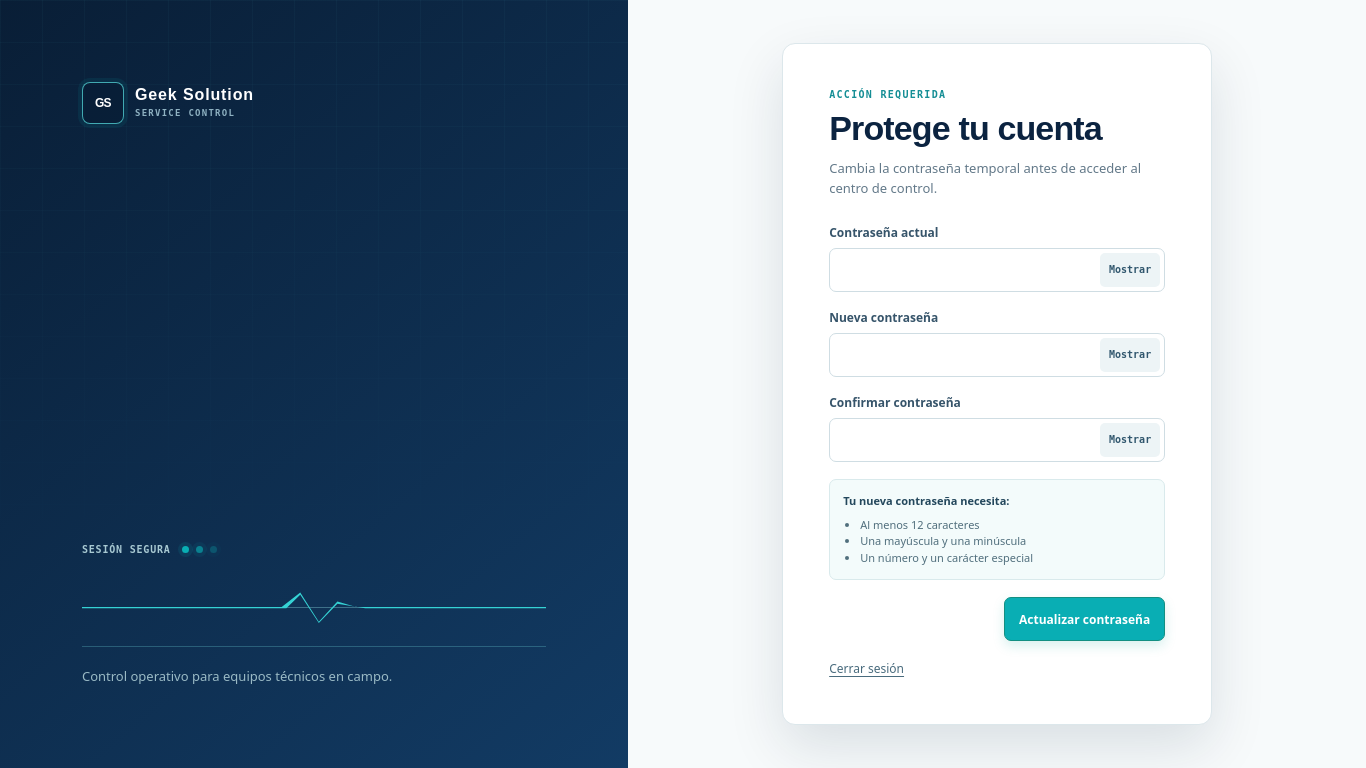
Test: páginas de autenticación › deshabilita el envío pendiente y conserva el cierre de sesión en cambio obligatorio
Type "Actual123!xxx" into the password field labelled "Contraseña actual" at (997, 270), box x1=829 y1=248 x2=1165 y2=292
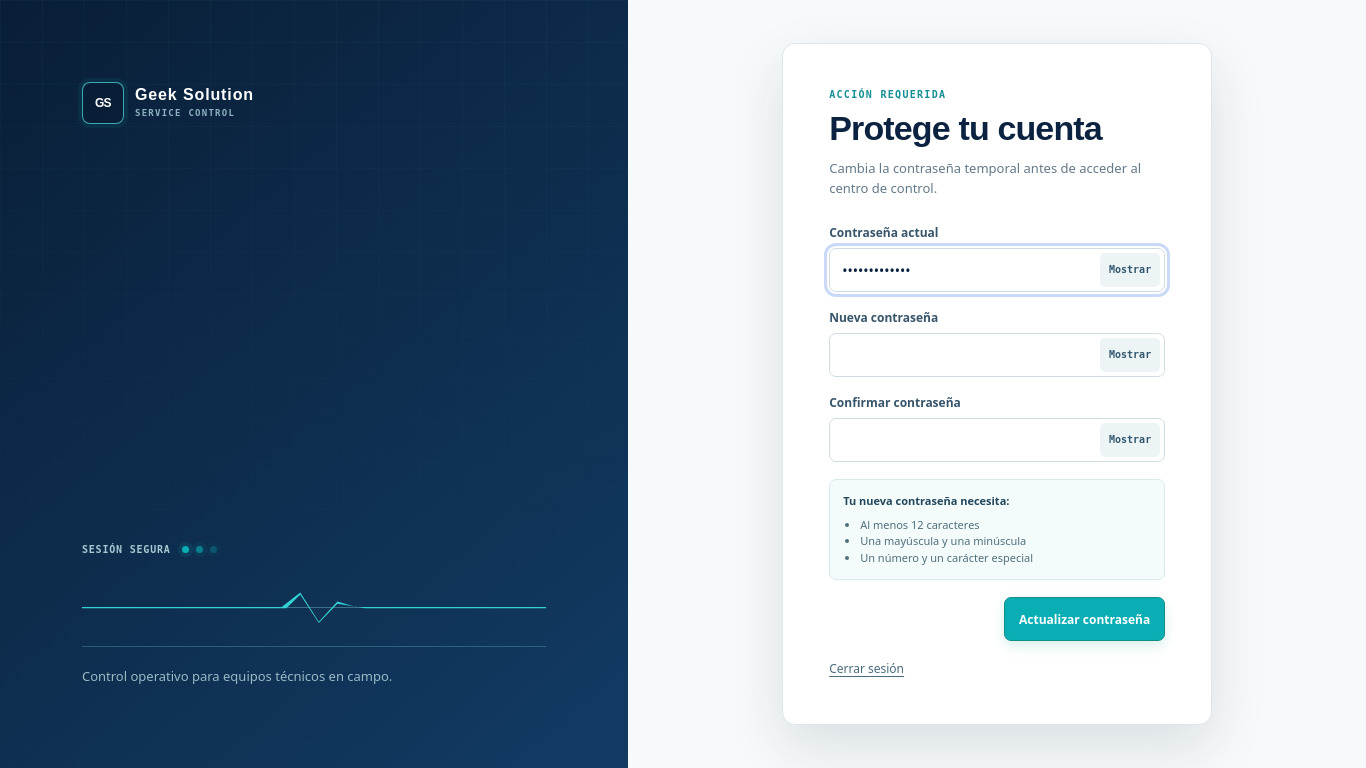
Type "Nueva123!xxxx" into the password field labelled "Nueva contraseña" at (997, 355), box x1=829 y1=333 x2=1165 y2=377
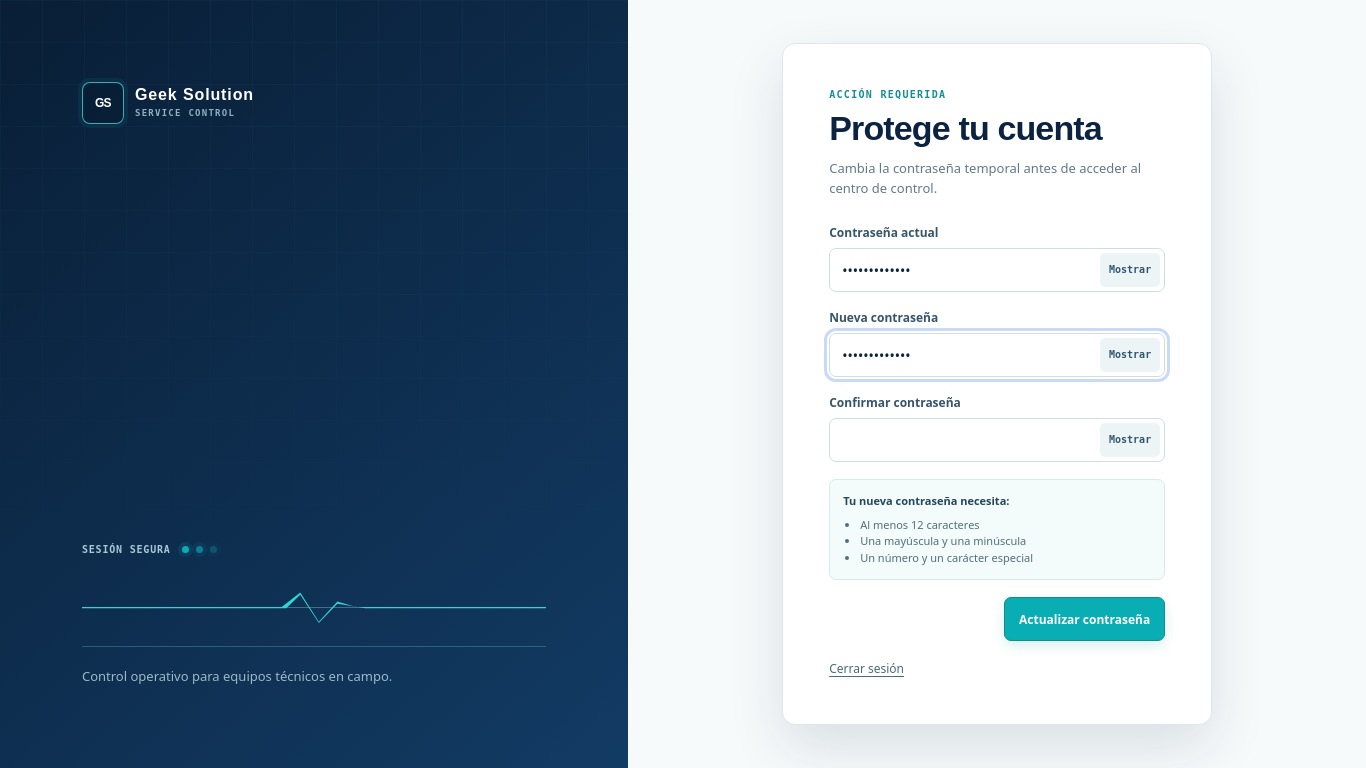
Type "Nueva123!xxxx" into the password field labelled "Confirmar contraseña" at (997, 440), box x1=829 y1=418 x2=1165 y2=462
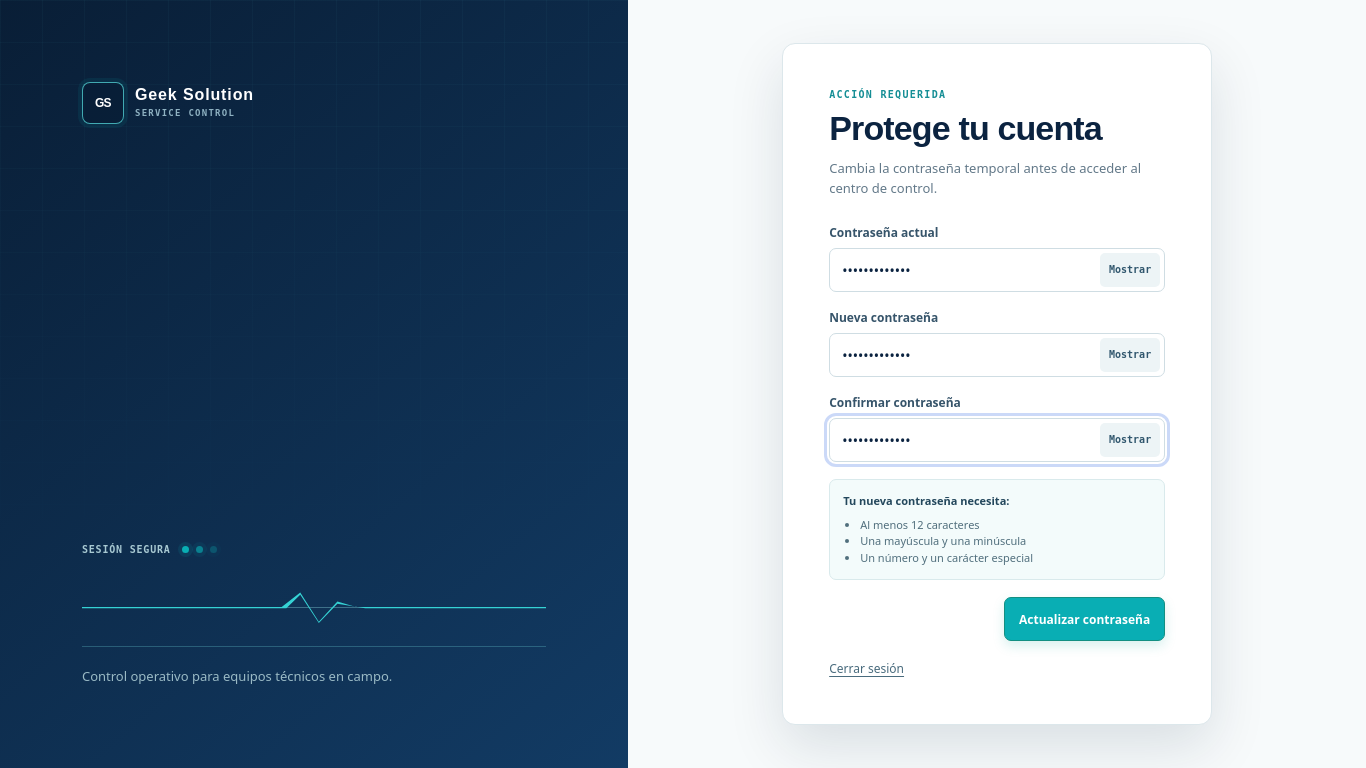
Click the button "Actualizar contraseña" at (1085, 619), box x1=1004 y1=597 x2=1165 y2=641
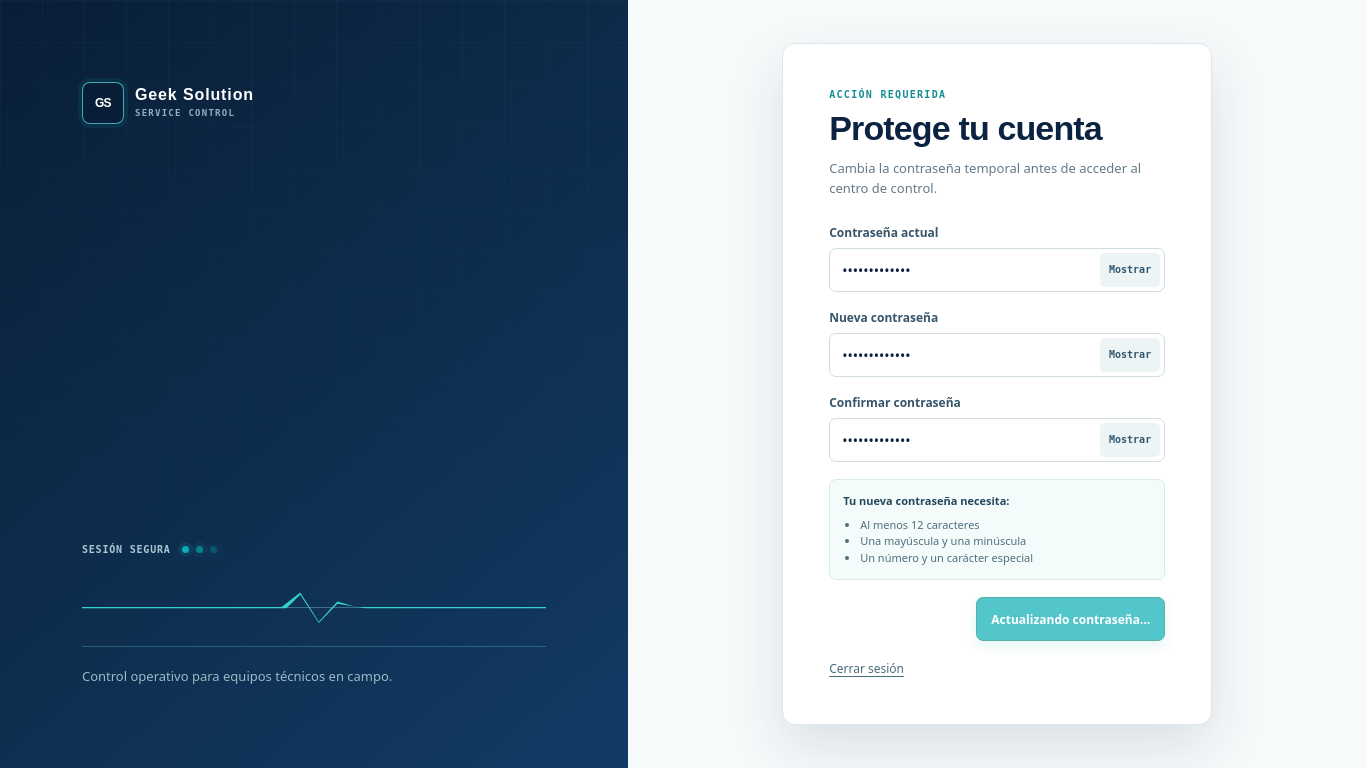
Expected: the button "Cerrar sesión" is enabled, x1=829 y1=660 x2=904 y2=677
Expected: the button "Actualizando contraseña…" is disabled, x1=976 y1=597 x2=1165 y2=641
